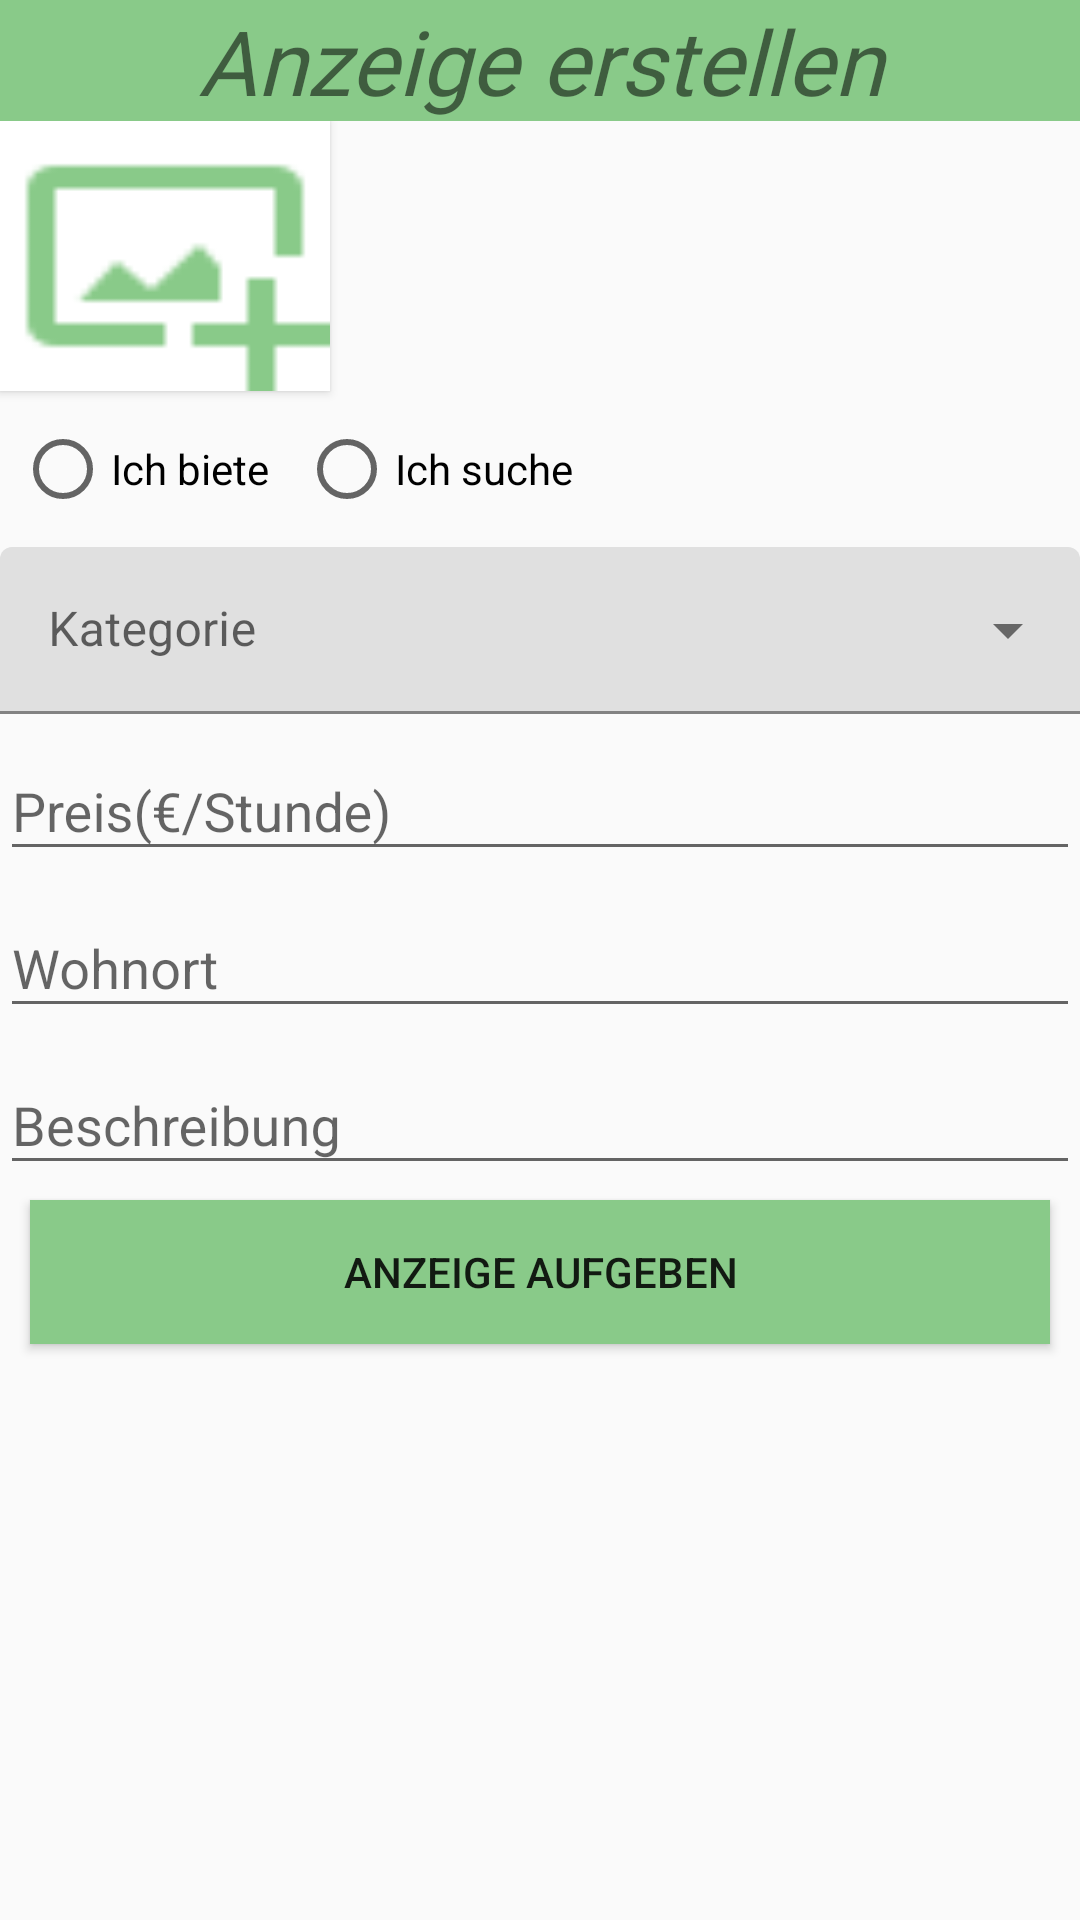

Where to tap for icons on this 1080px×1920px app screen, as (x,y):
add: (165,256)
